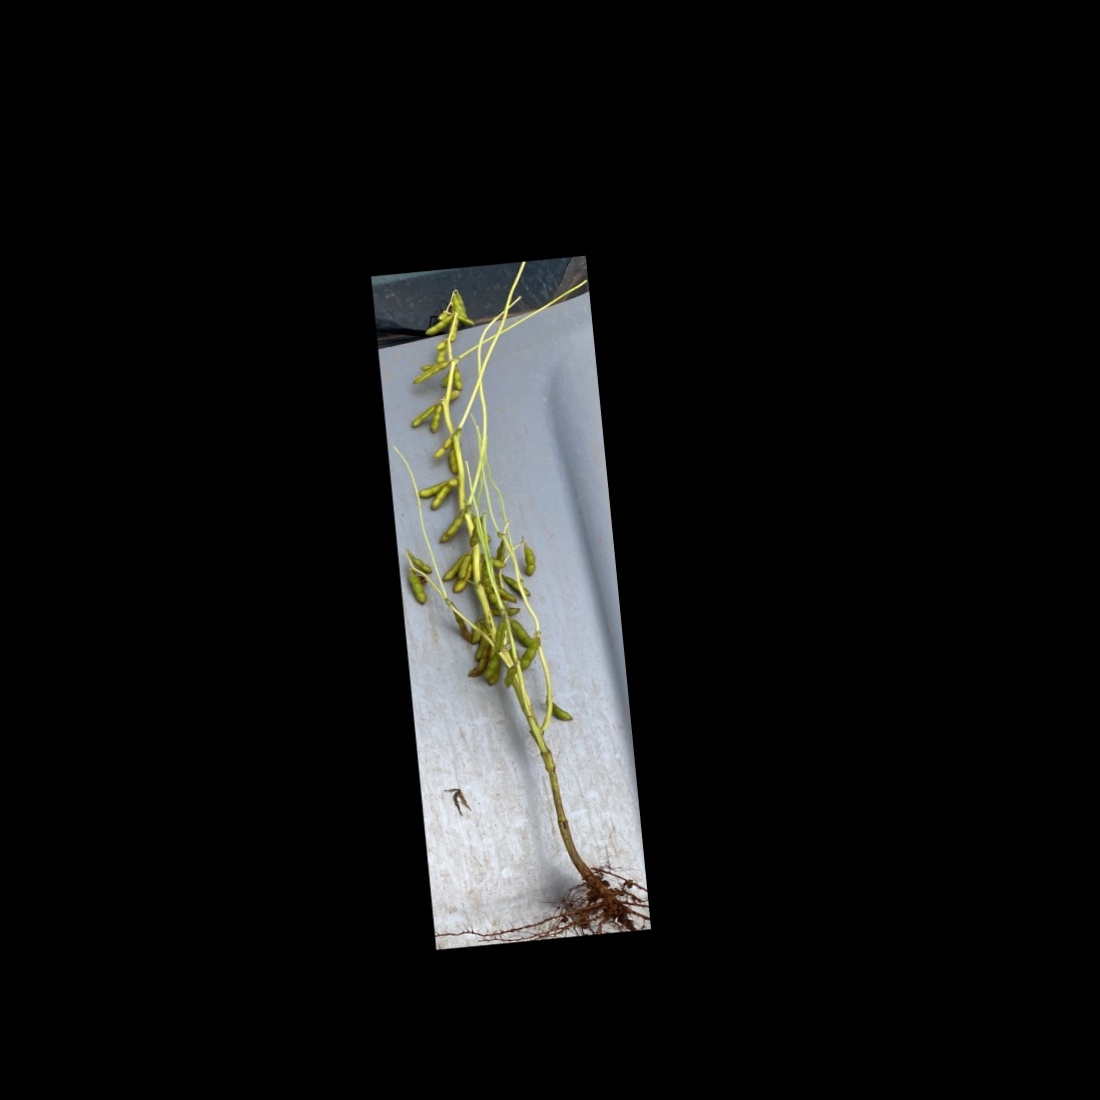pod: (517, 635, 544, 671), (407, 564, 429, 608), (544, 695, 576, 725), (435, 513, 465, 544), (518, 538, 539, 580), (420, 314, 458, 335), (426, 402, 448, 435), (407, 549, 433, 576), (501, 662, 523, 691), (456, 312, 478, 328), (452, 365, 465, 391)
soy: (378, 272, 645, 940)
